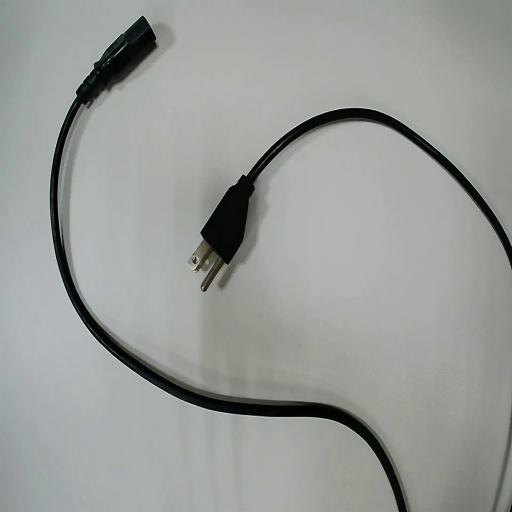wire: (51, 18, 406, 511), (202, 109, 511, 289)
